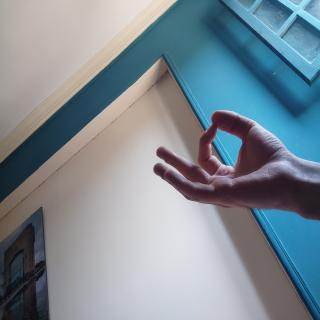Space: (151, 107, 303, 216)
